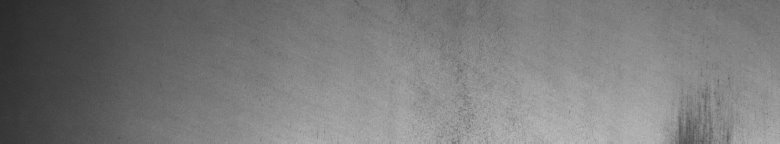ka: (674, 89, 720, 136)
